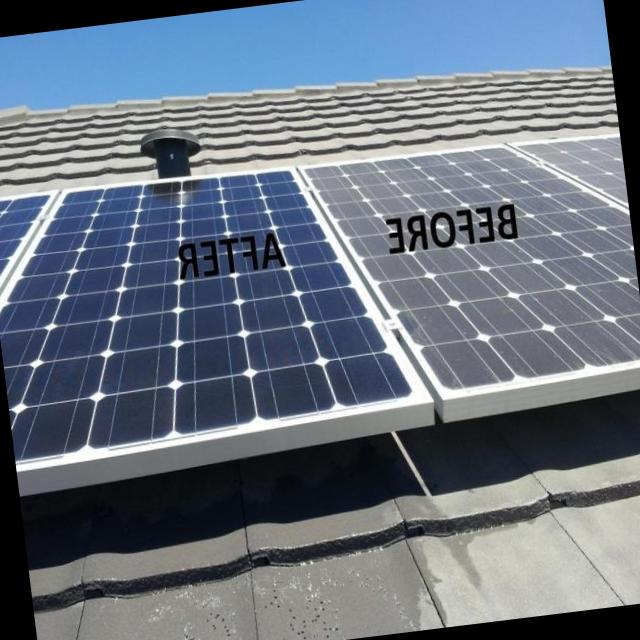faulty: (308, 133, 640, 394)
no faulty: (0, 163, 404, 461)
